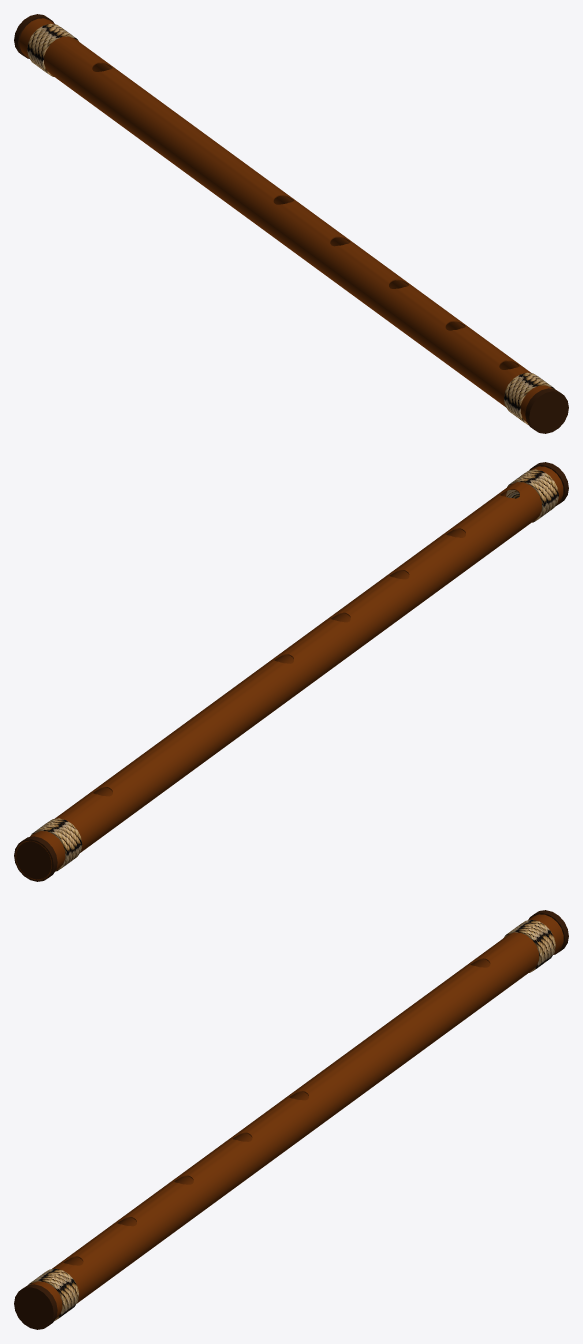
The model's file is flute.FBX.
3 renders of one model, top to bottom at view 1: azimuth 30°, elevation 25°; view 2: azimuth 150°, elevation 25°; view 3: azimuth 330°, elevation 25°, orthographic.
Parts seen in each view (by area): view 1: Tube001, Cylinder002, Cylinder003, Cylinder004; view 2: Tube001, Cylinder001, Cylinder004, Cylinder003; view 3: Tube001, Cylinder002, Cylinder003, Cylinder004.
Boxes of the visible parts, x1,y1,x2,y2 form: Tube001: (19, 18, 552, 422); Cylinder002: (525, 388, 568, 433); Cylinder003: (27, 23, 78, 76); Cylinder004: (504, 372, 554, 425); Tube001: (15, 466, 563, 880); Cylinder001: (14, 836, 57, 881); Cylinder004: (506, 469, 558, 522); Cylinder003: (30, 818, 82, 871); Tube001: (30, 914, 563, 1319); Cylinder002: (14, 1284, 57, 1329); Cylinder003: (504, 919, 555, 972); Cylinder004: (28, 1268, 78, 1321).
Bounding box in the file's own units: 0.0338 × 0.0333 × 0.759.
Materials: 3 (1 with a texture image).
